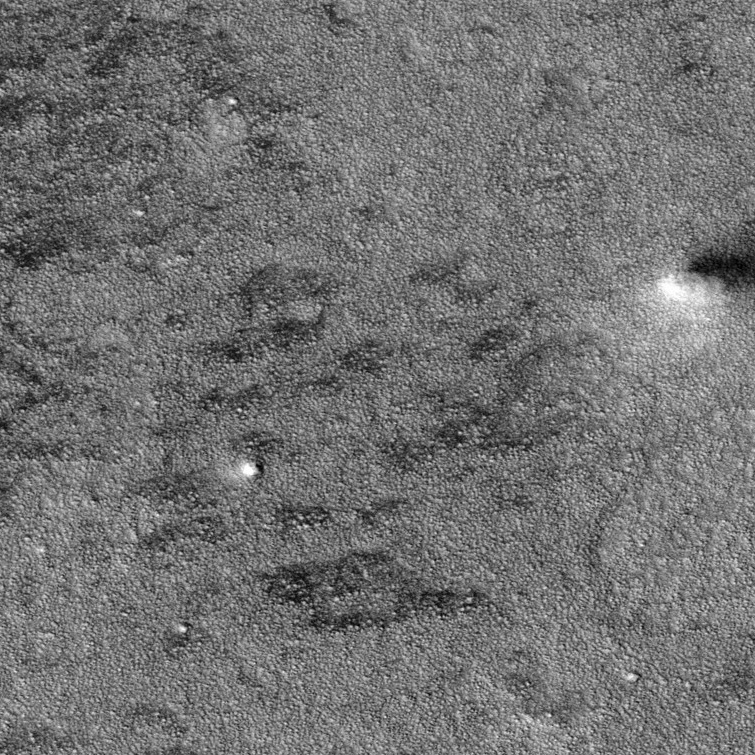dust_devil: (652, 224, 755, 318)
